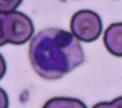N: (28, 28, 84, 78)
